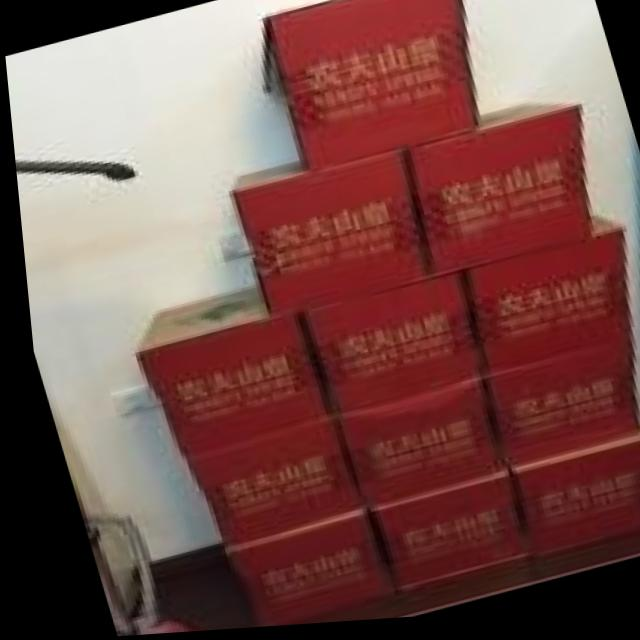box: (264, 0, 475, 171), (228, 152, 426, 320), (129, 287, 324, 457), (404, 109, 587, 283), (460, 219, 628, 384), (295, 277, 476, 419), (176, 419, 355, 547), (213, 507, 388, 630), (328, 382, 493, 509), (354, 473, 517, 599), (481, 342, 634, 471), (493, 439, 640, 565)
